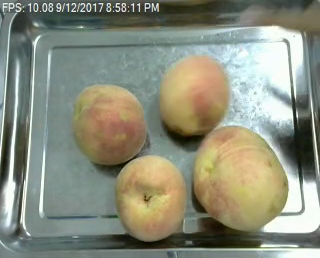Peach: (193, 124, 290, 234), (113, 155, 188, 243), (73, 84, 148, 165), (159, 54, 229, 136)
